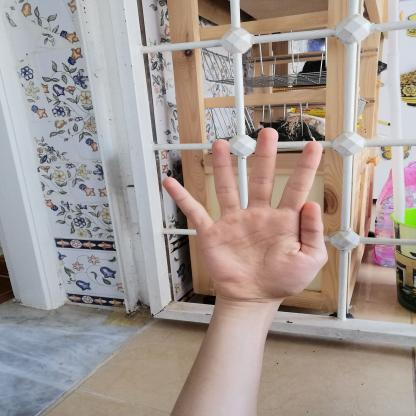SHEEN: (155, 119, 340, 311)
